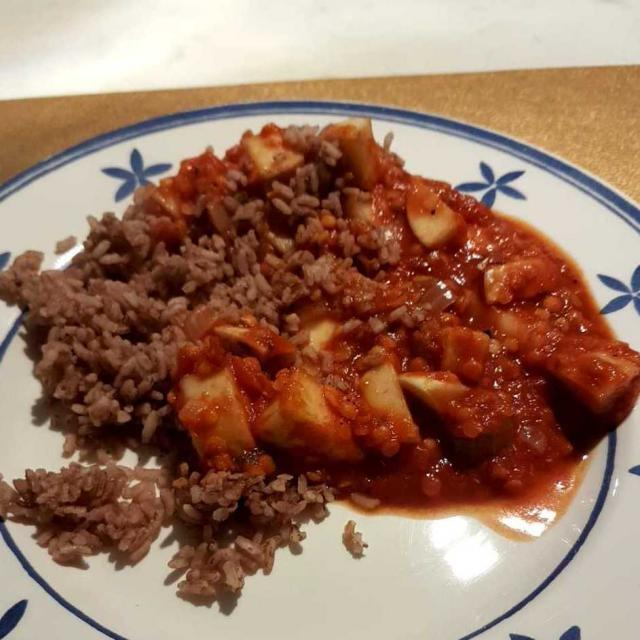curry-vegetarian: (181, 168, 618, 526)
lentils: (317, 203, 594, 485)
mixed-vegetables: (161, 110, 614, 523)
tomato-sauce: (207, 139, 628, 549)
